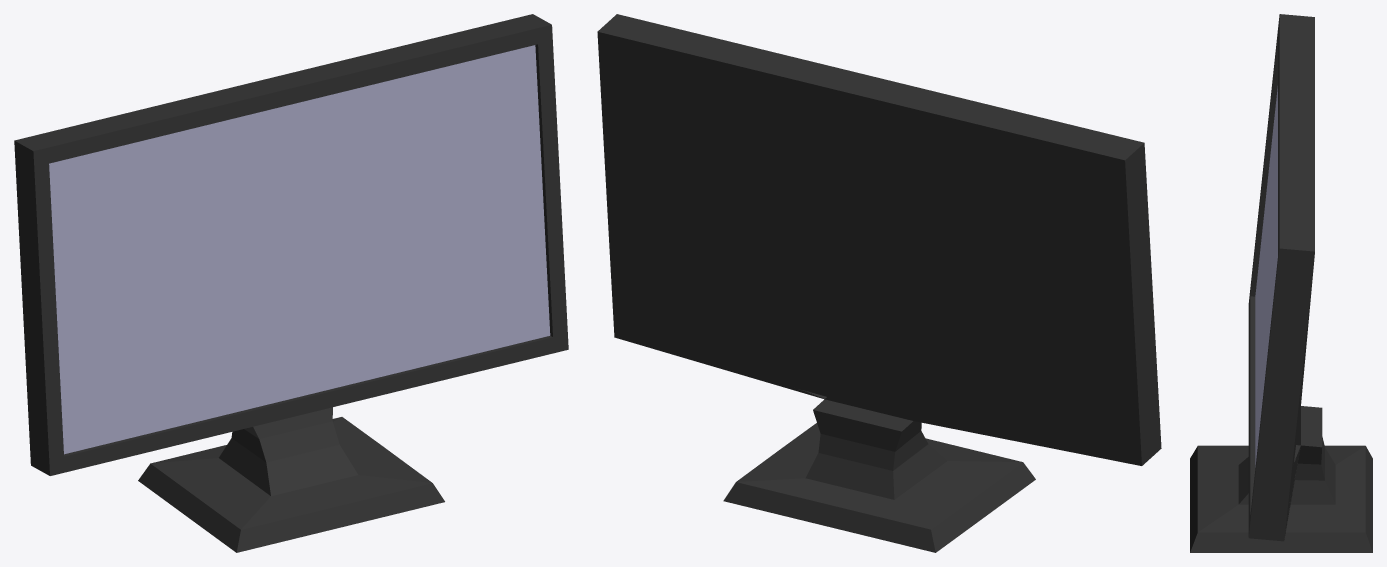
The model's file is Gaming Screen.fbx.
3 renders of one model, left to right at view 1: azimuth 30°, elevation 25°; view 2: azimuth 150°, elevation 25°; view 3: azimuth 270°, elevation 25°, orthographic. The views are drawn at different scales.
Parts seen in each view (by area): view 1: Gaming Screen; view 2: Gaming Screen; view 3: Gaming Screen.
Part boxes in pixels (x1,y1,x2,y2): Gaming Screen: [14, 14, 568, 552]; Gaming Screen: [597, 14, 1161, 552]; Gaming Screen: [1190, 14, 1372, 552].
Size of the model in its own units: 0.8727 by 0.6499 by 0.2876.
